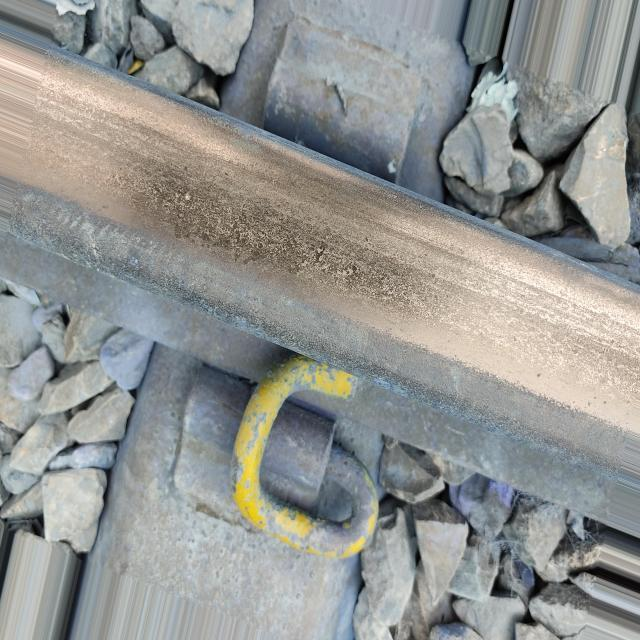Good Fasteners: (162, 346, 386, 594)
Missing Fastener: (243, 26, 433, 204)
